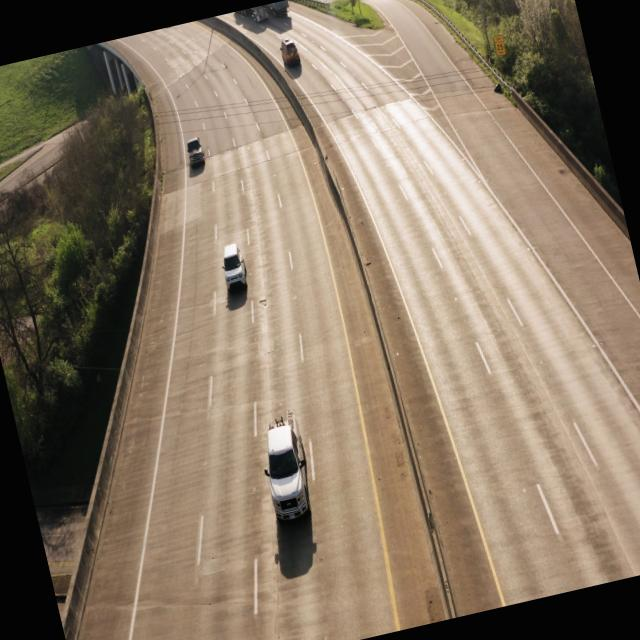Vehicle: (254, 404, 324, 532), (216, 240, 252, 299), (182, 134, 208, 174), (278, 32, 304, 72)
